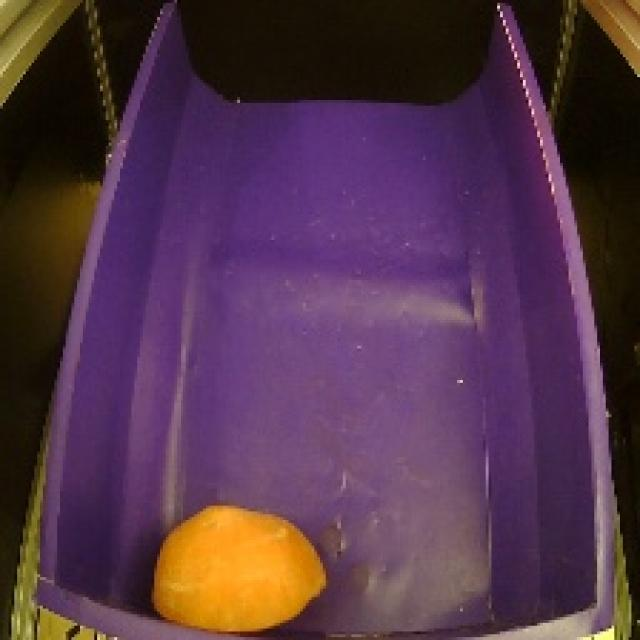carrots: (134, 490, 334, 636)
